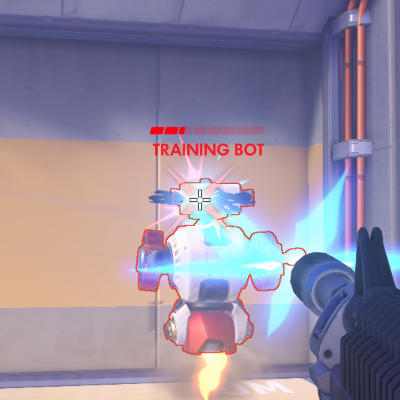hpbar: (149, 126, 266, 135)
